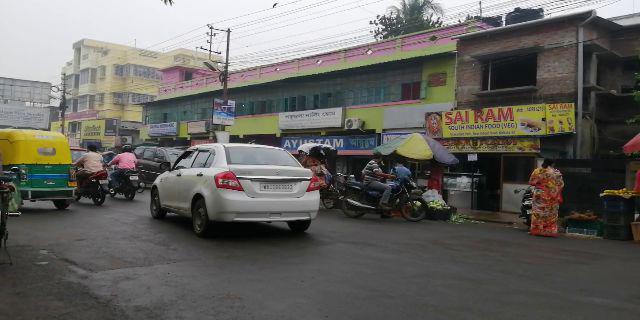Autorickshaw: (1, 132, 79, 211)
Car: (151, 140, 321, 231)
Motorbike: (337, 157, 428, 223), (69, 141, 112, 207), (109, 144, 143, 203)
